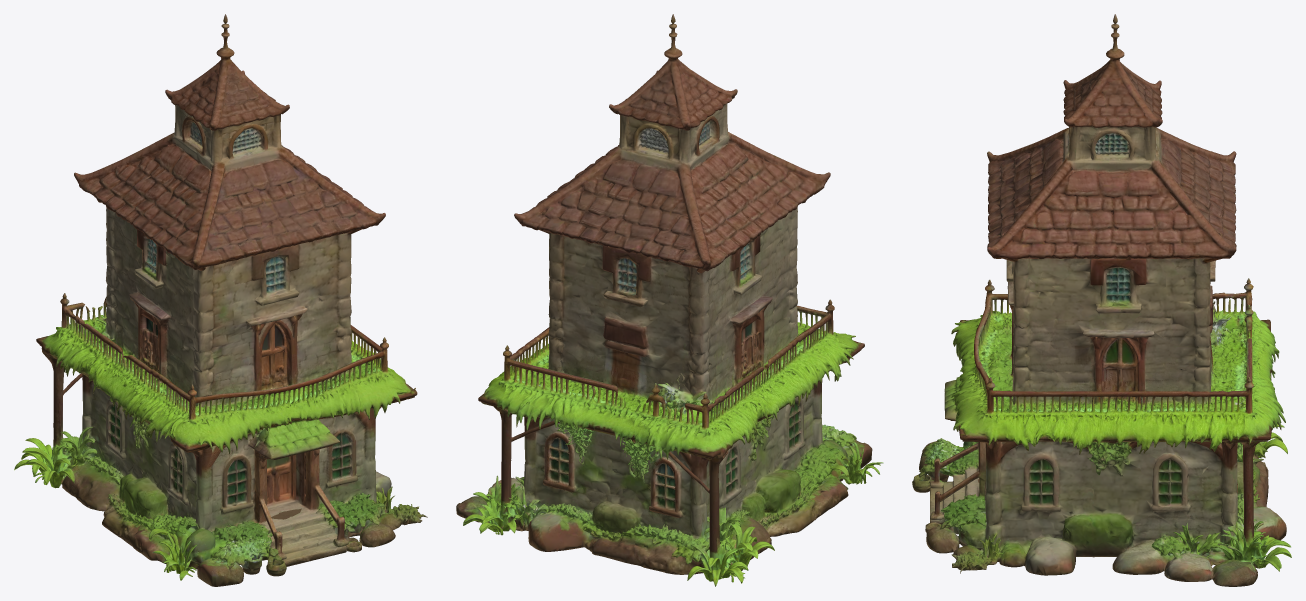
The model's file is bq_tower_house.hd.glb.
3 views of the same model, side by side, from view 1: azimuth 30°, elevation 25°; view 2: azimuth 150°, elevation 25°; view 3: azimuth 270°, elevation 25° (orthographic). The views are drawn at different scales.
Bounding box in the file's own units: 1.21 × 1.91 × 1.32.
Materials: 1 (1 with a texture image).
